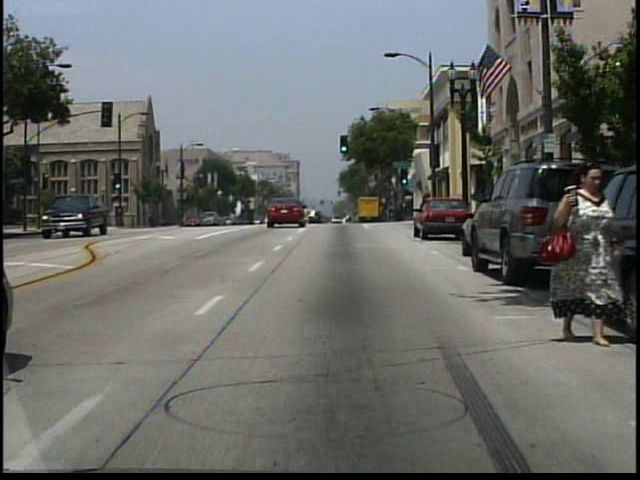person: (552, 158, 627, 345)
